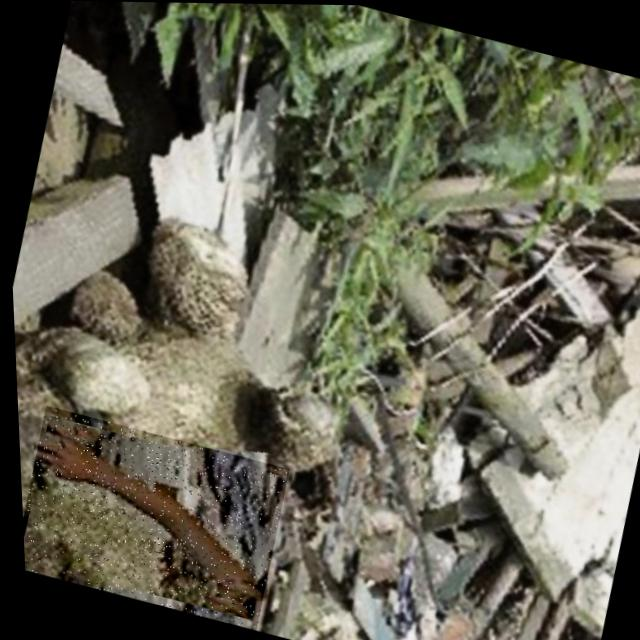Person in Rubble: (14, 404, 289, 629)
